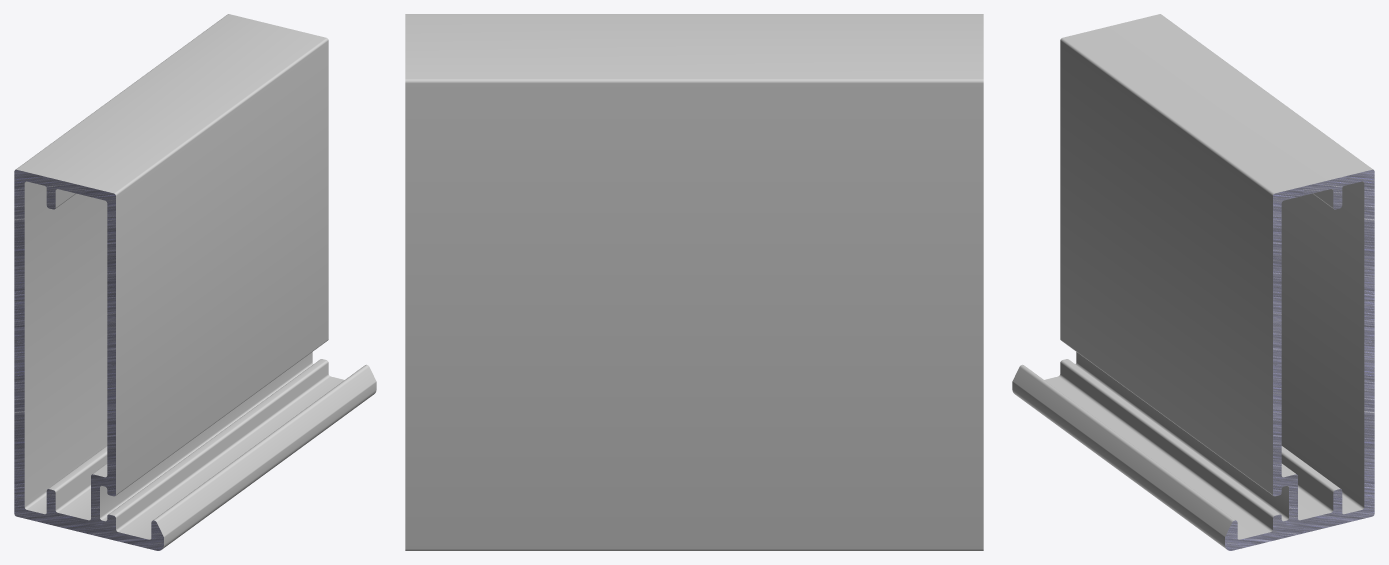
3 views of the same model, side by side, from view 1: azimuth 30°, elevation 25°; view 2: azimuth 150°, elevation 25°; view 3: azimuth 270°, elevation 25° (orthographic). The views are drawn at different scales.
Visible parts, largest first — view 1: 3545; view 2: 3545; view 3: 3545.
Part boxes in pixels (bbox=[...]): 3545: bbox=[14, 14, 376, 550]; 3545: bbox=[405, 14, 983, 550]; 3545: bbox=[1012, 14, 1374, 550].
Bounding box in the file's own units: 0.0535 × 0.045 × 0.0426.
Materials: 2 (1 with a texture image).
